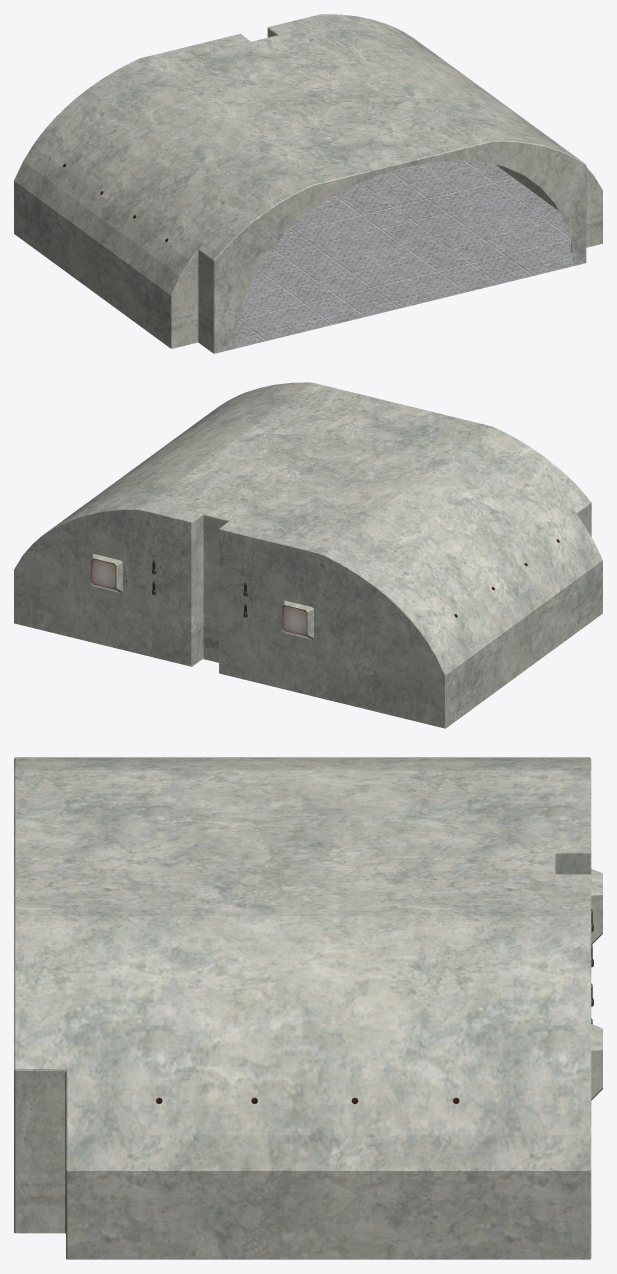
The model's file is thm_corl_cantina_r4_alcove1_mesh_r4.fbx.
3 views of the same model, one above another, from view 1: azimuth 30°, elevation 25°; view 2: azimuth 150°, elevation 25°; view 3: azimuth 270°, elevation 25° (orthographic). The views are drawn at different scales.
Parts seen in each view (by area): view 1: mesh_node; view 2: mesh_node; view 3: mesh_node.
Part boxes in pixels (x1,y1,x2,y2): mesh_node: (14, 14, 602, 353); mesh_node: (14, 382, 602, 728); mesh_node: (14, 757, 602, 1259).
Bounding box in the file's own units: 12.97 × 4.15 × 9.2.
